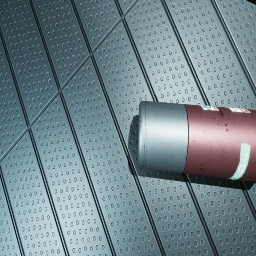NitrogenTank ,: (137, 101, 256, 183)
